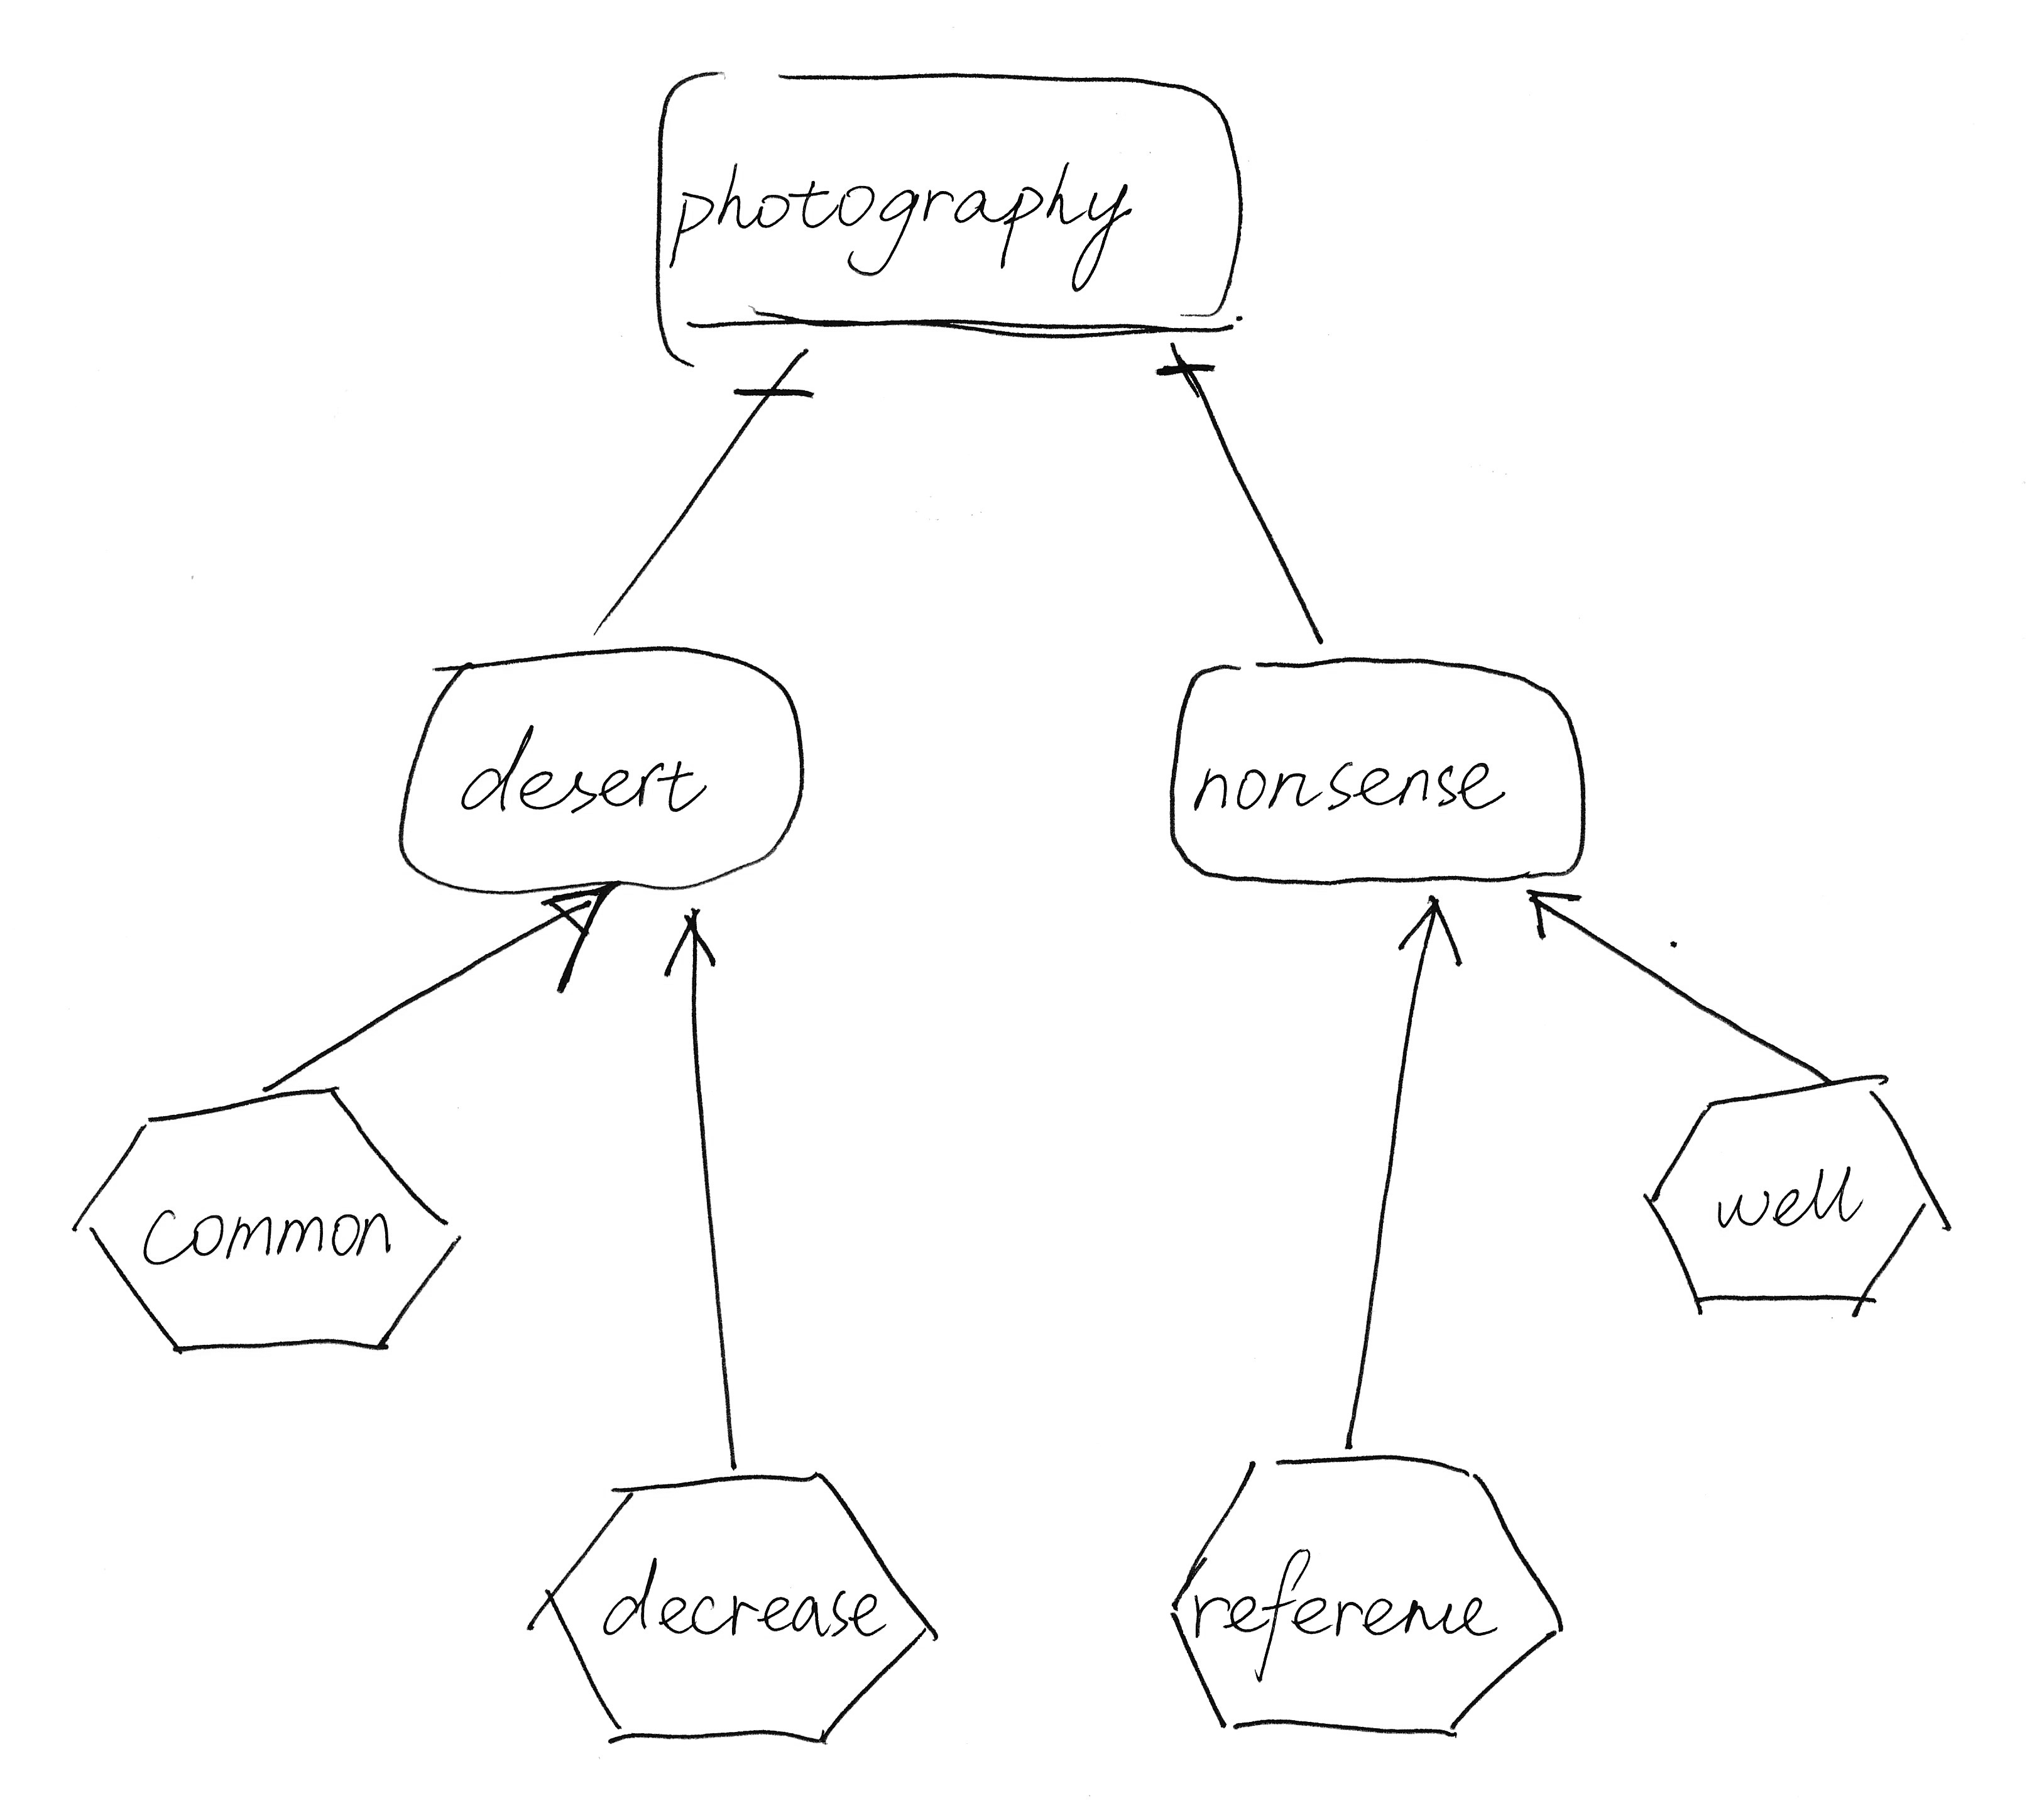and: (717, 351, 820, 429), (1149, 343, 1233, 408)
arrow: (525, 877, 622, 1012), (652, 896, 747, 994), (1384, 882, 1475, 980), (1498, 880, 1605, 952)
goal: (638, 42, 1266, 355), (1151, 638, 1616, 899), (371, 632, 819, 903)
task: (1154, 1435, 1579, 1757), (53, 1075, 499, 1381), (506, 1462, 950, 1762), (1628, 1063, 1966, 1340)
